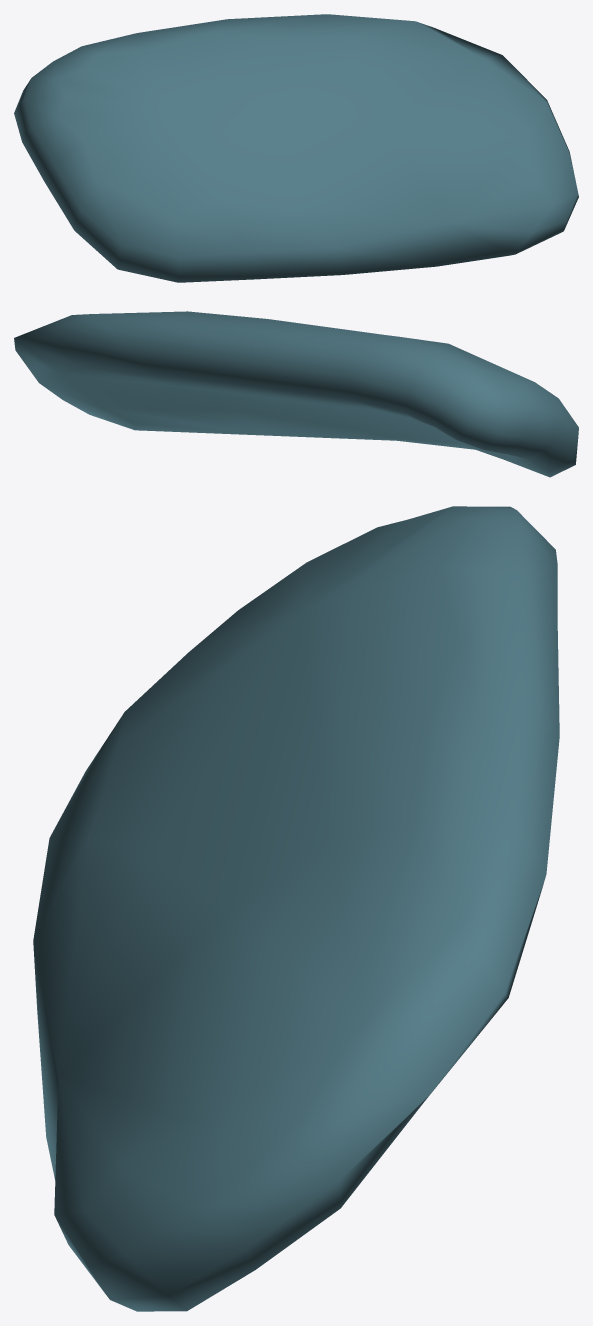
The model's file is Flexor_digitorum_profundus_4th_finger_distal_phalanx_left.glb.
3 views of the same model, one above another, from view 1: azimuth 30°, elevation 25°; view 2: azimuth 150°, elevation 25°; view 3: azimuth 270°, elevation 25° (orthographic). The views are drawn at different scales.
Visible parts, largest first — view 1: Flexor_digitorum_profundus_on_distal_phalanx_of_4th_finger._; view 2: Flexor_digitorum_profundus_on_distal_phalanx_of_4th_finger._; view 3: Flexor_digitorum_profundus_on_distal_phalanx_of_4th_finger._.
Part boxes in pixels (bbox=[...]): Flexor_digitorum_profundus_on_distal_phalanx_of_4th_finger._: bbox=[14, 14, 578, 282]; Flexor_digitorum_profundus_on_distal_phalanx_of_4th_finger._: bbox=[14, 311, 578, 477]; Flexor_digitorum_profundus_on_distal_phalanx_of_4th_finger._: bbox=[33, 506, 559, 1311].
Size of the model in its own units: 0.00384 by 0.0016 by 0.00175.
